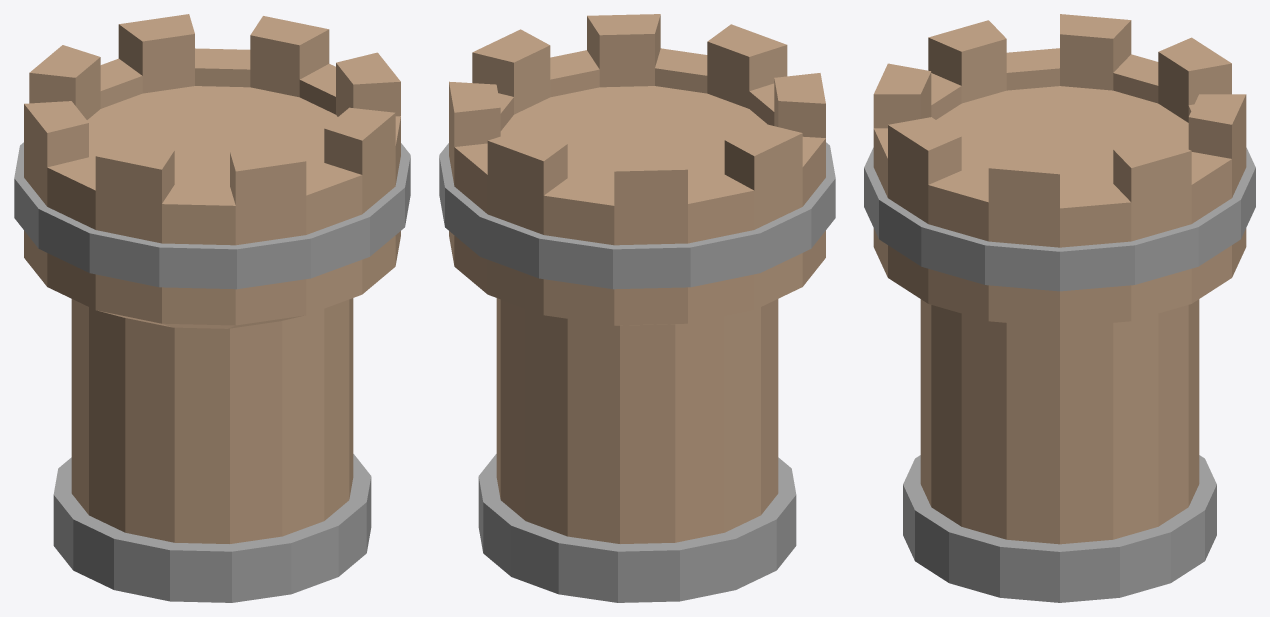
The model's file is Torre.fbx.
3 renders of one model, left to right at view 1: azimuth 30°, elevation 25°; view 2: azimuth 150°, elevation 25°; view 3: azimuth 270°, elevation 25°, orthographic.
Parts seen in each view (by area): view 1: Tower; view 2: Tower; view 3: Tower.
Part boxes in pixels (left/top/right/bottom): Tower: left=14, top=14, right=410, bottom=602; Tower: left=439, top=14, right=835, bottom=602; Tower: left=864, top=14, right=1255, bottom=602.
Bounding box in the file's own units: 694 × 846 × 681.
